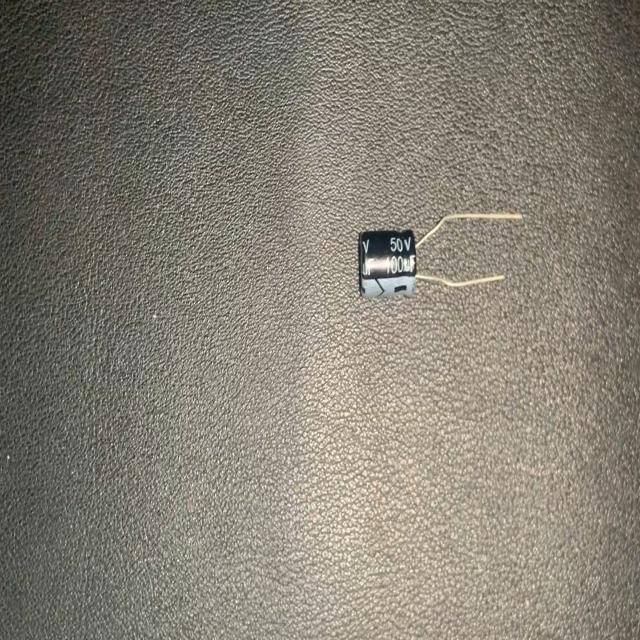capacitor: (353, 202, 529, 306)
